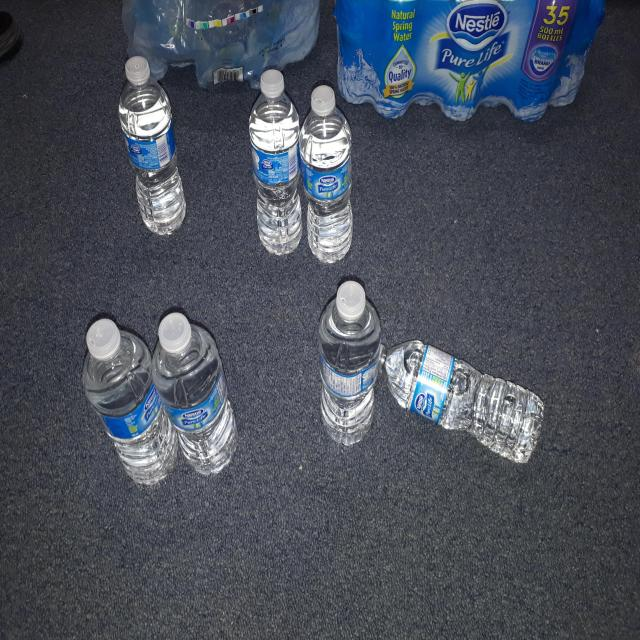plastic bottle: (382, 336, 548, 468), (80, 330, 177, 487), (150, 322, 240, 477), (119, 76, 190, 240), (318, 295, 384, 447), (248, 93, 300, 259), (300, 108, 354, 266)
plastic bottle cap: (84, 311, 124, 367), (156, 308, 195, 361), (334, 276, 369, 328), (308, 81, 338, 121), (124, 53, 151, 90), (261, 67, 287, 103)
